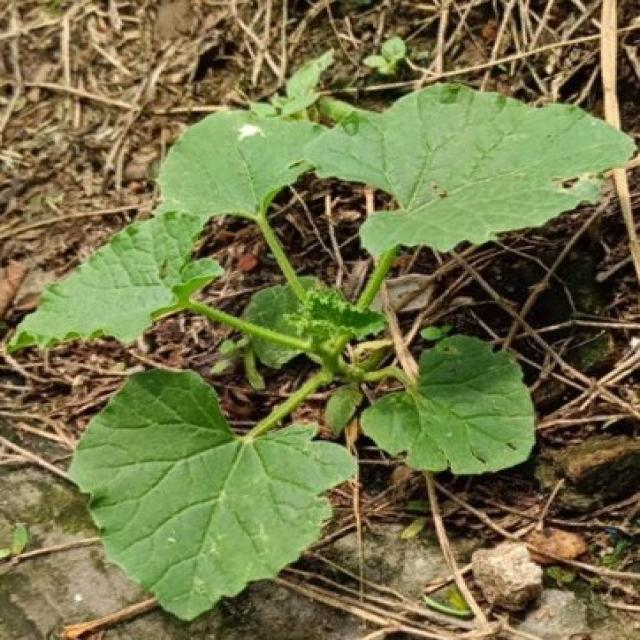plant: (9, 52, 636, 620)
